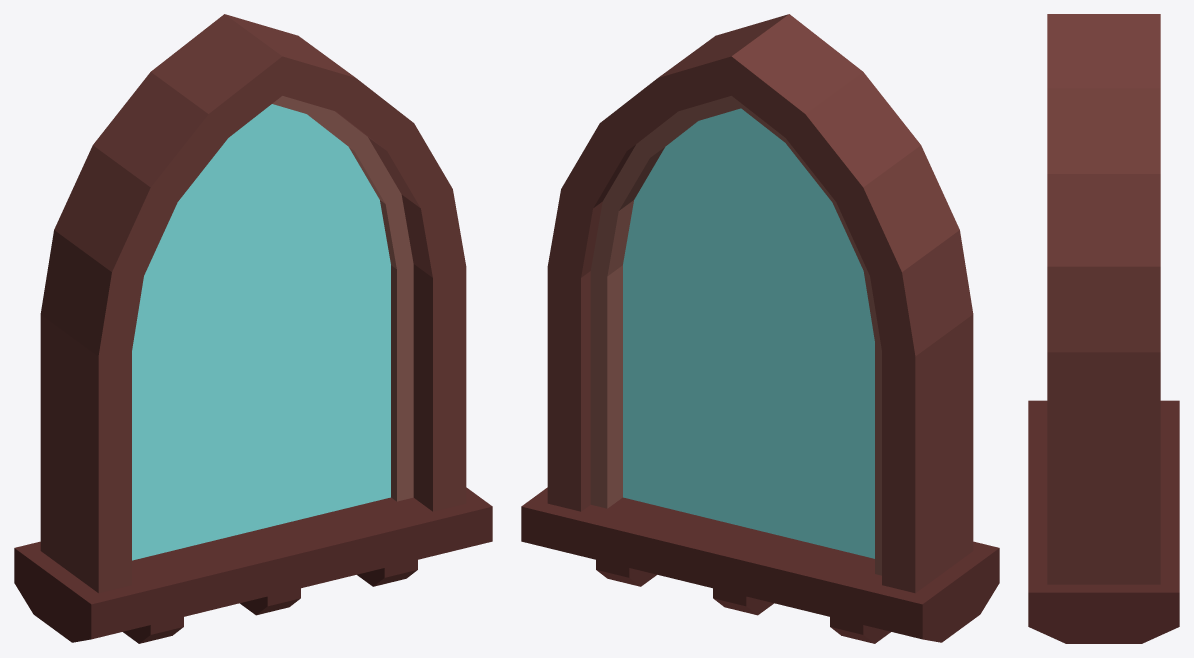
Rendered from Window_2.fbx.
3 views of the same model, side by side, from view 1: azimuth 30°, elevation 25°; view 2: azimuth 150°, elevation 25°; view 3: azimuth 270°, elevation 25° (orthographic).
Visible parts, largest first — view 1: Window_2; view 2: Window_2; view 3: Window_2.
Part boxes in pixels (bbox=[...]): Window_2: bbox=[14, 14, 492, 643]; Window_2: bbox=[521, 14, 999, 643]; Window_2: bbox=[1028, 14, 1179, 643].
Size of the model in its own units: 1.2 by 0.4 by 1.61.
